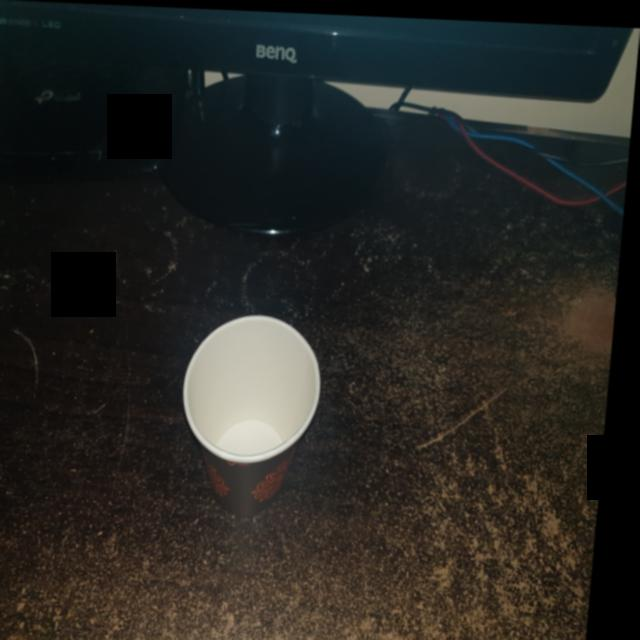cups: (179, 305, 336, 524)
